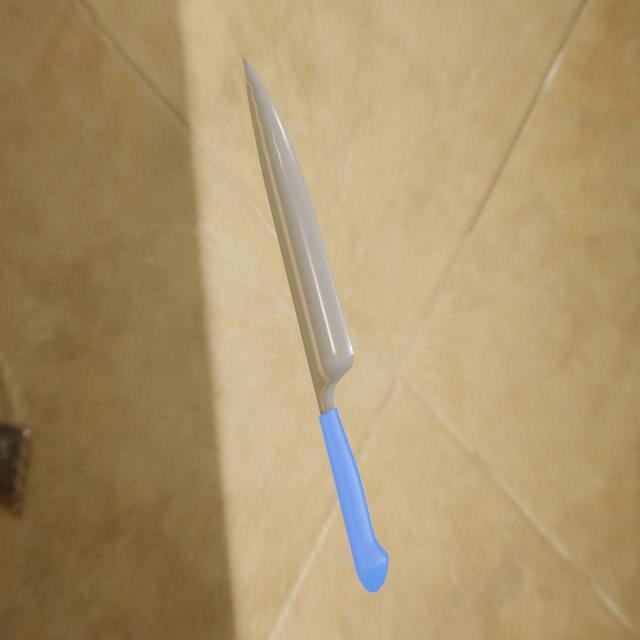knife: (318, 404, 388, 594)
